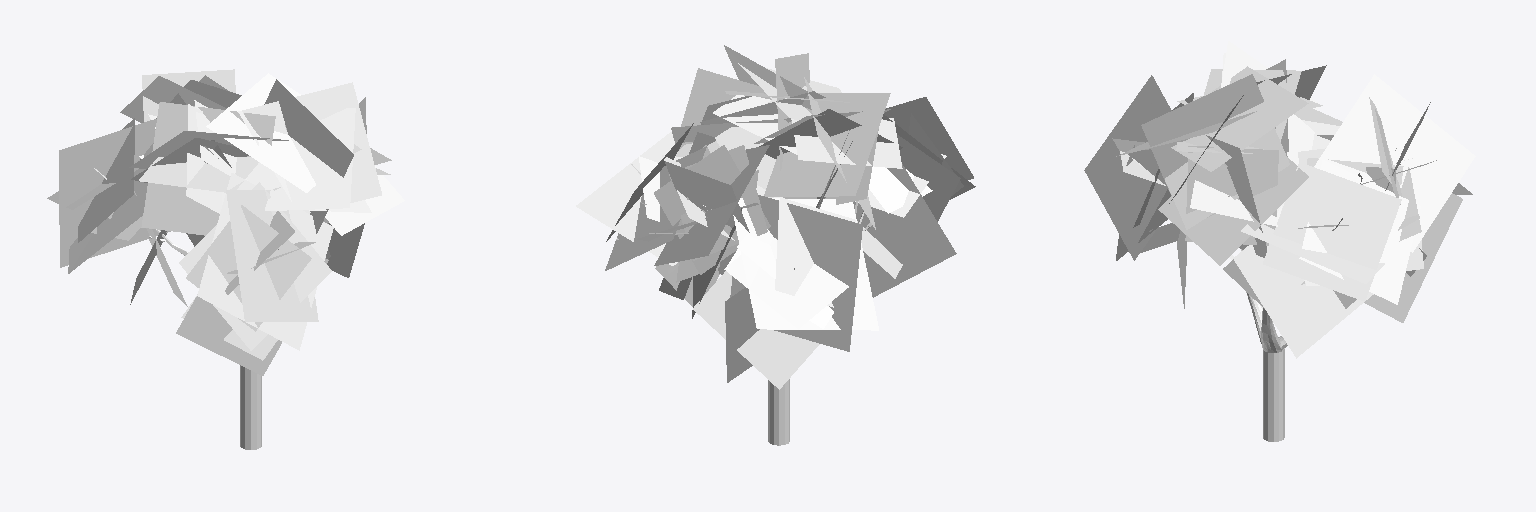
Rendered from Flowering_Dogwood_Model_0.obj.
3 views of the same model, side by side, from view 1: azimuth 30°, elevation 25°; view 2: azimuth 150°, elevation 25°; view 3: azimuth 270°, elevation 25° (orthographic).
Visible parts, largest first — view 1: Foliage__leafcard, Bark; view 2: Foliage__leafcard, Bark; view 3: Foliage__leafcard, Bark.
Part boxes in pixels (x1,y1,x2,y2): Foliage__leafcard: (47, 69, 404, 375); Bark: (94, 125, 286, 449); Foliage__leafcard: (576, 45, 975, 389); Bark: (631, 164, 871, 445); Foliage__leafcard: (1084, 41, 1475, 358); Bark: (1132, 137, 1412, 441).
Bounding box in the file's own units: 6.34 × 7.5 × 7.18.